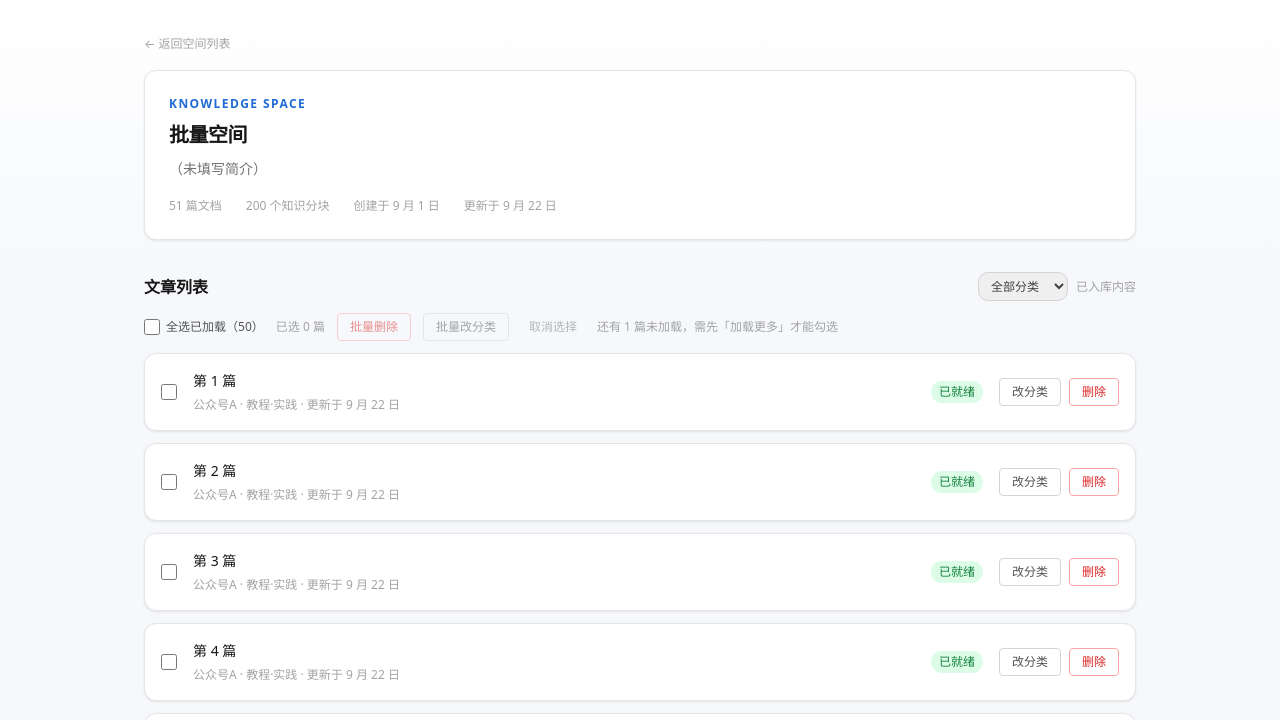
Test: R0.2.6 与 R0.1.3 服务端分页共存：跨页多选 › 全选已加载一次勾选全部已加载行，再次点击全取消
Click the checkbox labelled "全选已加载". click: (152, 327)
box: top-left (144, 319), bottom-right (160, 335)
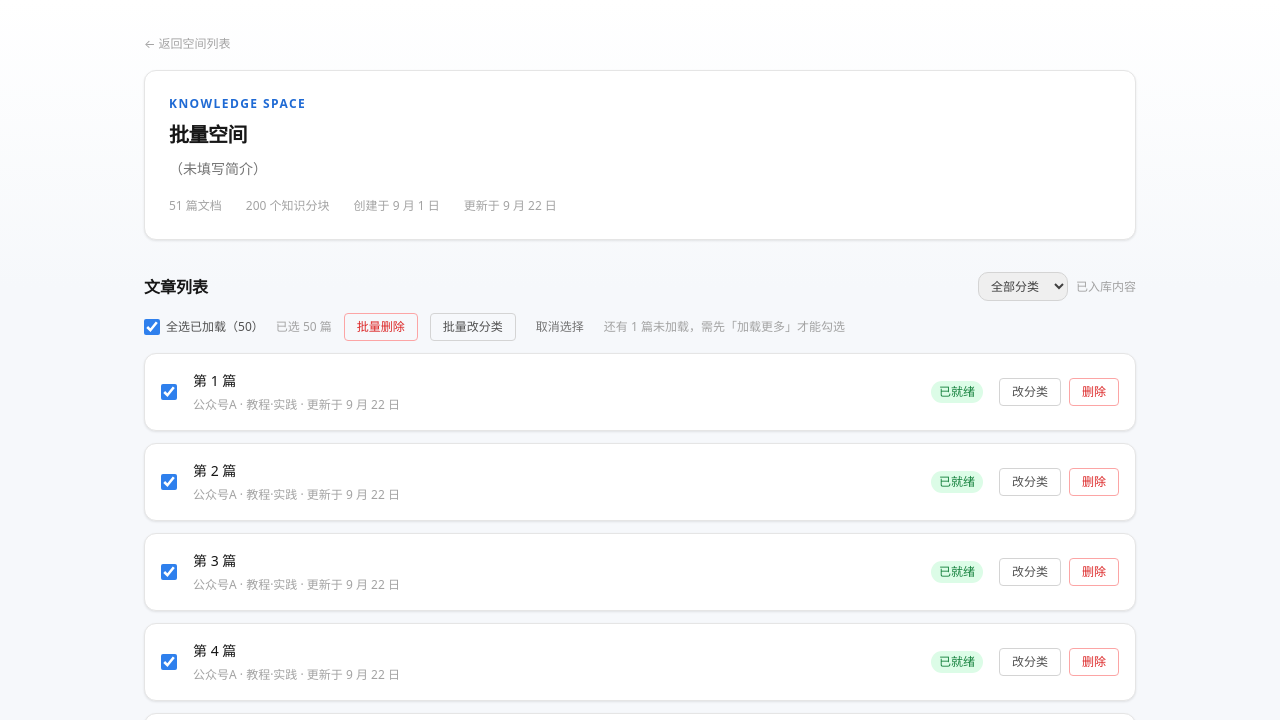
Check: the text "已选 50 篇" is shown, box top-left (276, 318), bottom-right (332, 336)
Check: the checkbox named "选择文章：第 1 篇" is checked, box top-left (161, 384), bottom-right (177, 400)
Click the checkbox labelled "全选已加载". click: (152, 327)
box: top-left (144, 319), bottom-right (160, 335)
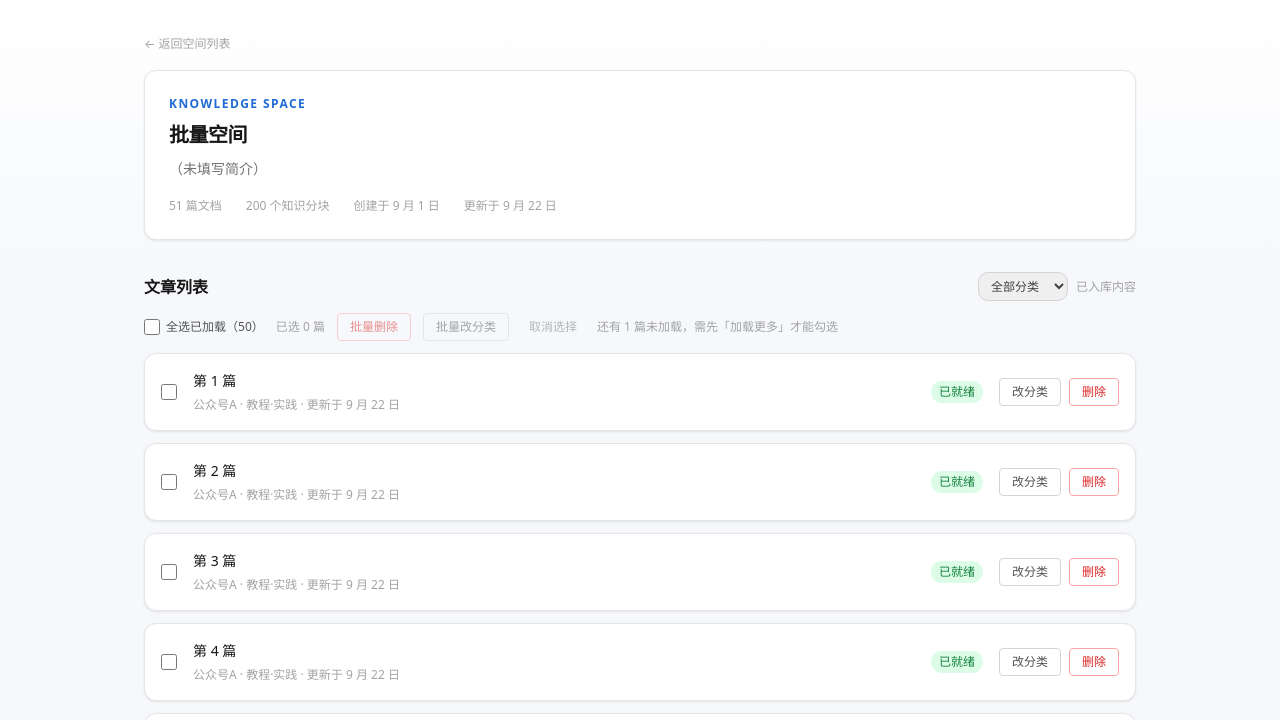
Check: the text "已选 0 篇" is shown, box top-left (276, 318), bottom-right (325, 336)
Check: the checkbox named "选择文章：第 1 篇" is not checked, box top-left (161, 384), bottom-right (177, 400)
